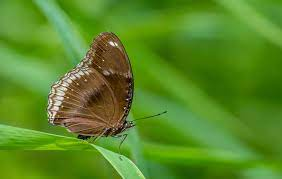insect: (44, 32, 135, 143)
